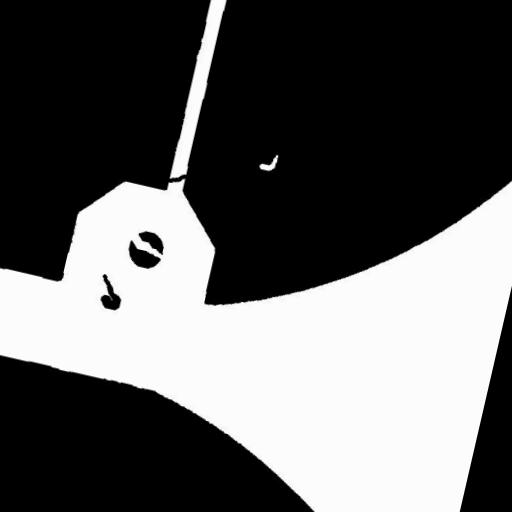copper: (86, 264, 134, 320)
open: (116, 220, 180, 269)
pin-hole: (250, 142, 288, 181)
short: (154, 161, 196, 197)
